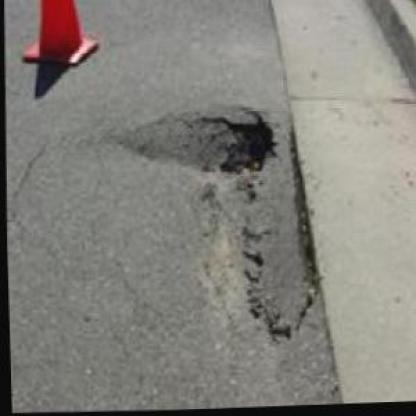pothole: (231, 108, 326, 348), (115, 106, 279, 182)
